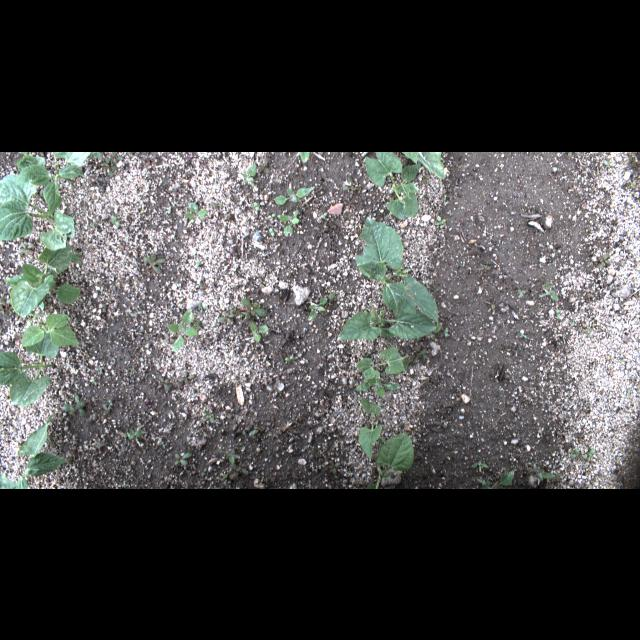crop: (354, 218, 438, 328), (0, 173, 74, 250), (10, 238, 72, 316), (15, 151, 90, 215), (0, 330, 58, 408), (364, 152, 420, 218), (337, 303, 435, 339), (366, 432, 414, 488), (21, 309, 79, 346), (356, 346, 408, 382), (359, 396, 381, 459), (401, 152, 445, 178)
weed: (0, 412, 68, 488), (5, 262, 80, 302), (166, 307, 198, 351), (356, 374, 400, 396), (476, 470, 514, 488), (272, 188, 312, 205), (276, 209, 300, 235), (238, 297, 266, 319), (531, 461, 555, 485), (141, 253, 165, 273), (308, 296, 326, 322), (184, 202, 208, 218), (251, 322, 269, 342), (538, 282, 558, 300), (219, 448, 241, 464), (62, 401, 86, 415), (242, 163, 258, 180), (174, 452, 193, 466), (74, 395, 86, 417), (412, 345, 428, 361), (257, 156, 271, 174), (217, 310, 236, 322), (0, 296, 14, 312), (426, 322, 442, 336), (135, 424, 145, 446), (18, 242, 36, 254), (178, 372, 196, 384), (230, 303, 248, 315), (471, 460, 489, 472), (16, 152, 27, 170), (104, 162, 118, 176), (343, 177, 359, 189), (598, 252, 610, 268), (157, 376, 170, 390), (328, 460, 340, 474), (582, 446, 594, 460), (106, 151, 122, 161), (162, 333, 178, 343), (232, 464, 248, 474), (249, 426, 265, 436), (202, 410, 214, 422), (70, 253, 84, 263), (128, 428, 142, 438), (101, 402, 112, 414), (190, 318, 202, 329), (236, 427, 252, 435), (196, 302, 208, 312), (218, 474, 228, 486), (375, 434, 385, 446), (89, 151, 103, 159), (37, 294, 44, 310), (46, 434, 54, 448), (229, 468, 239, 479), (435, 419, 447, 428), (210, 199, 223, 207), (299, 152, 309, 162), (118, 429, 130, 437), (200, 282, 208, 294), (484, 301, 496, 309), (112, 215, 120, 225), (252, 200, 260, 210), (268, 226, 276, 236), (400, 358, 410, 366), (436, 216, 446, 224), (571, 448, 579, 458), (328, 291, 336, 299), (586, 328, 594, 336), (283, 354, 293, 360), (518, 290, 528, 296), (258, 278, 264, 286), (268, 212, 276, 218), (320, 212, 328, 218), (520, 332, 528, 338), (605, 160, 613, 166), (73, 251, 83, 255), (444, 326, 448, 336), (556, 308, 560, 318), (201, 468, 207, 474), (196, 257, 200, 265), (630, 182, 636, 186), (568, 152, 572, 156)
